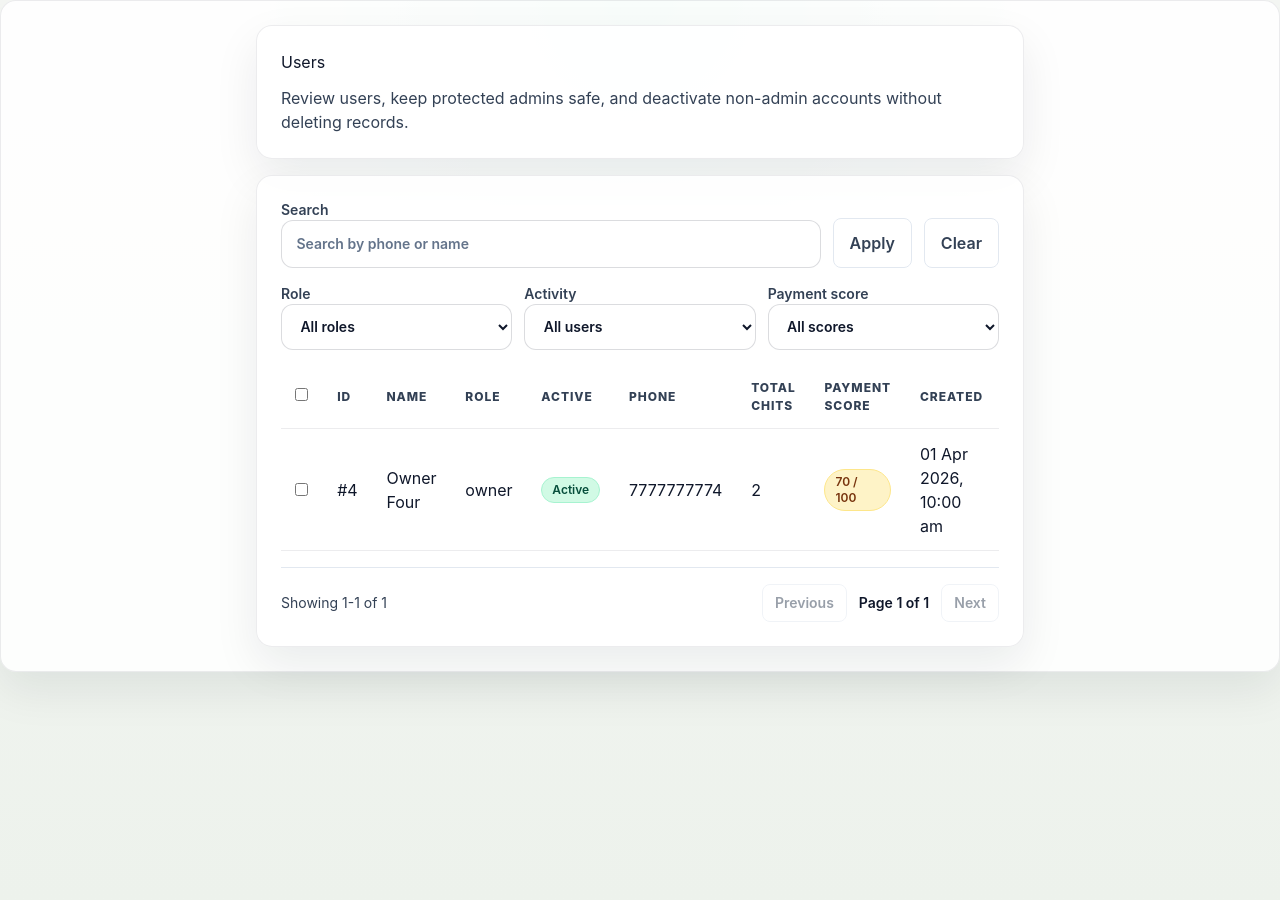
Test: UsersPage clears selected users when filters move the list to a different eligible set
This screenshot has width=1280, height=900.
Click the checkbox named "Select user Owner Four". click: click(302, 489)
box: 295,483 -> 308,496
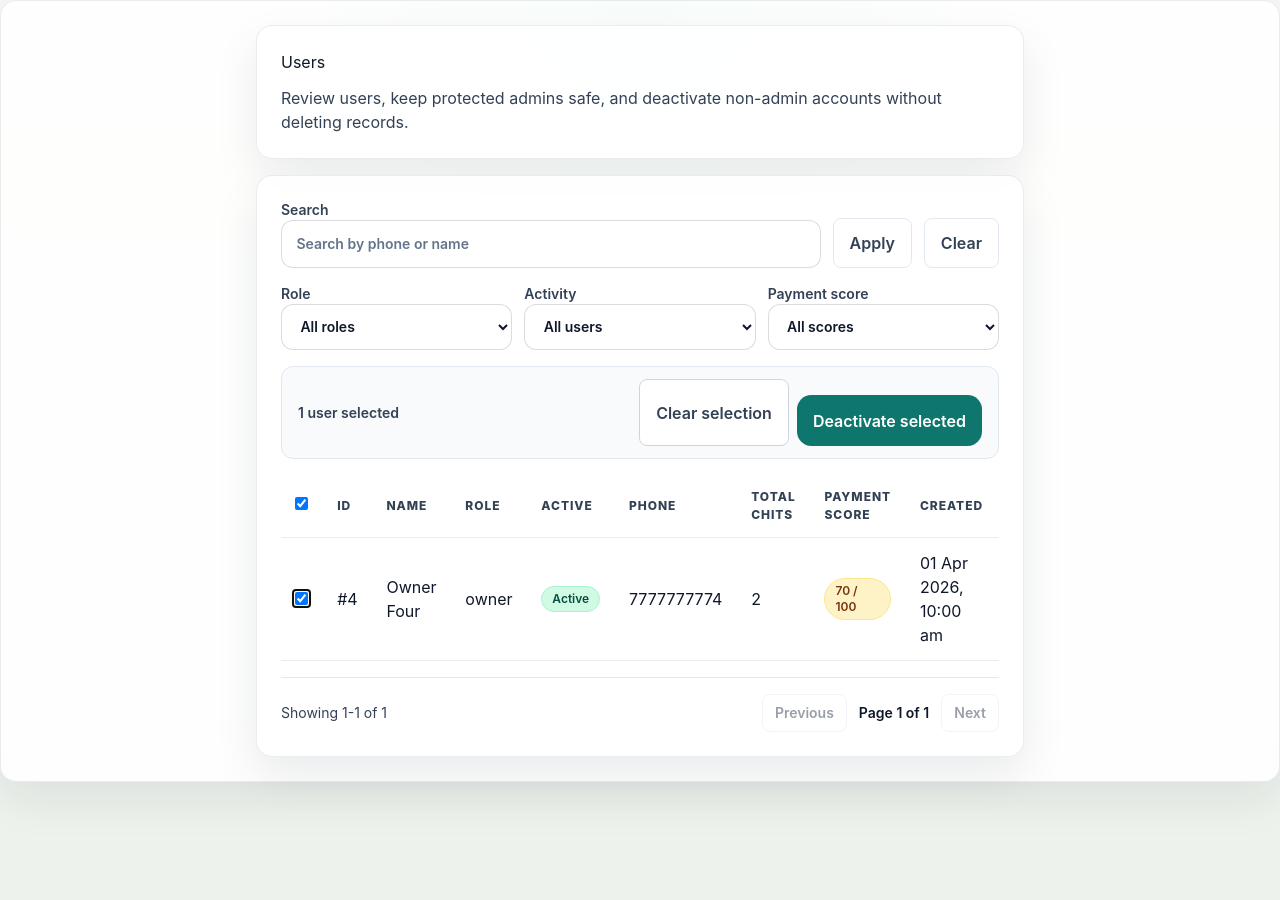
Now the checkbox named "Select user Owner Four" is checked, box 295,592 -> 308,605
Select "Inactive" in the dropdown labelled "Activity". click: (640, 327)
box: 524,304 -> 756,350
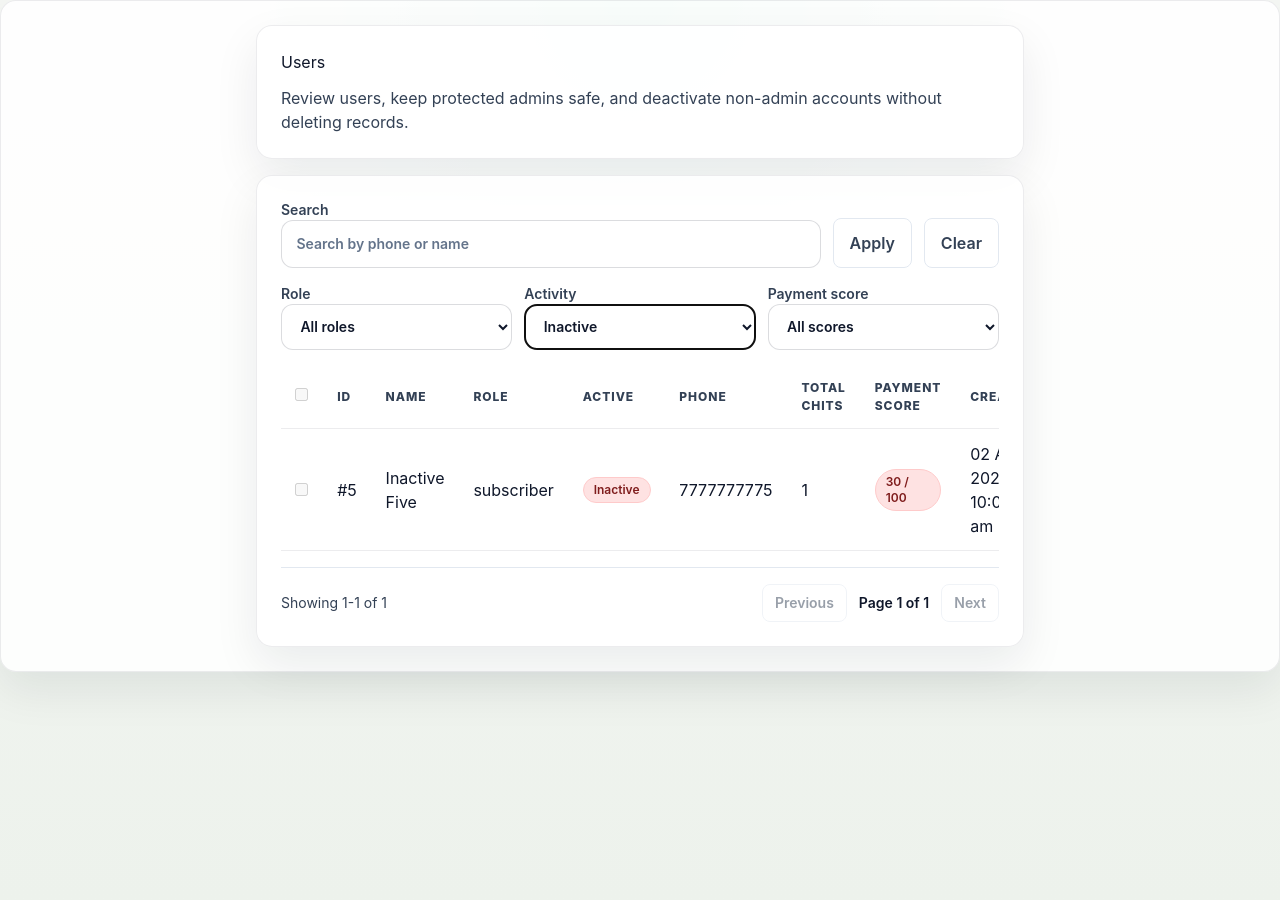
Now the link "Inactive Five" is shown, box 386,468 -> 445,512
Now the text "1 user selected" is gone
